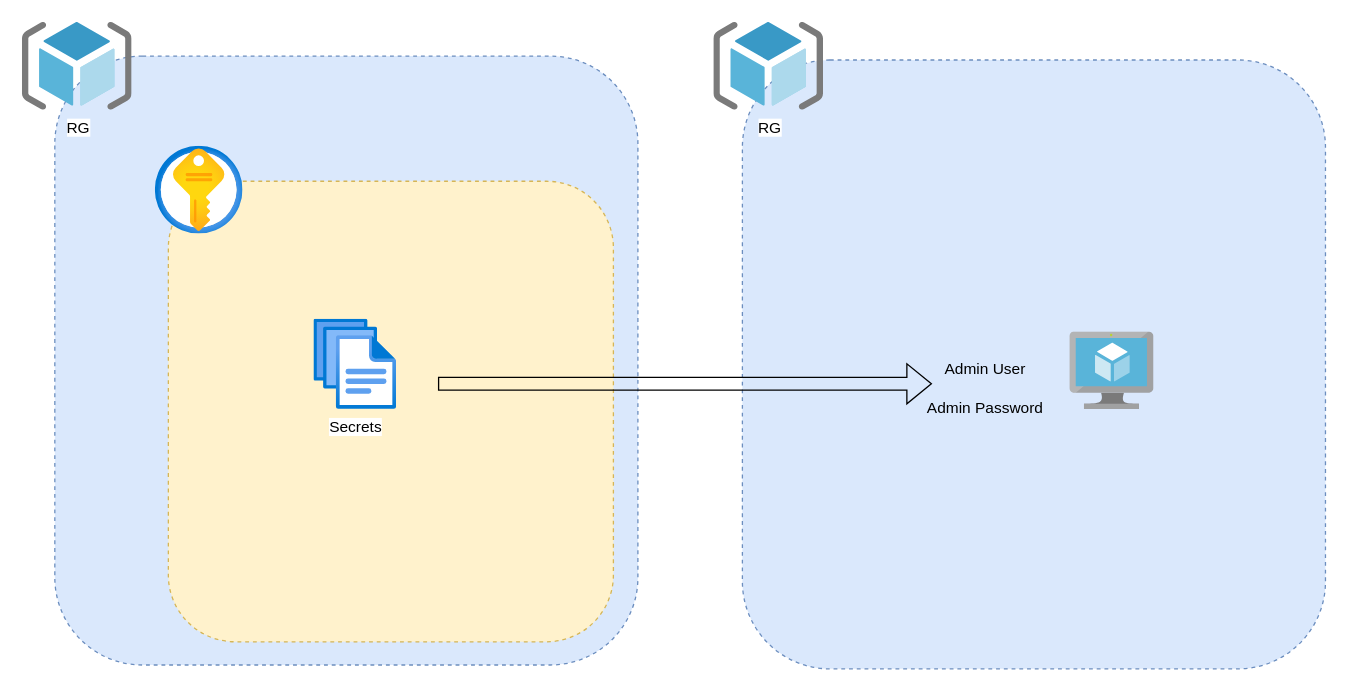
Some shapes in this 1348 by 691 pixel diagram are drawn without their labels. Each missing label, with the centre of its shape:
"KV" goes at (x=199, y=189).
"VM" goes at (x=1111, y=370).
